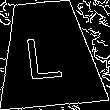L_N: (27, 27, 70, 81)
